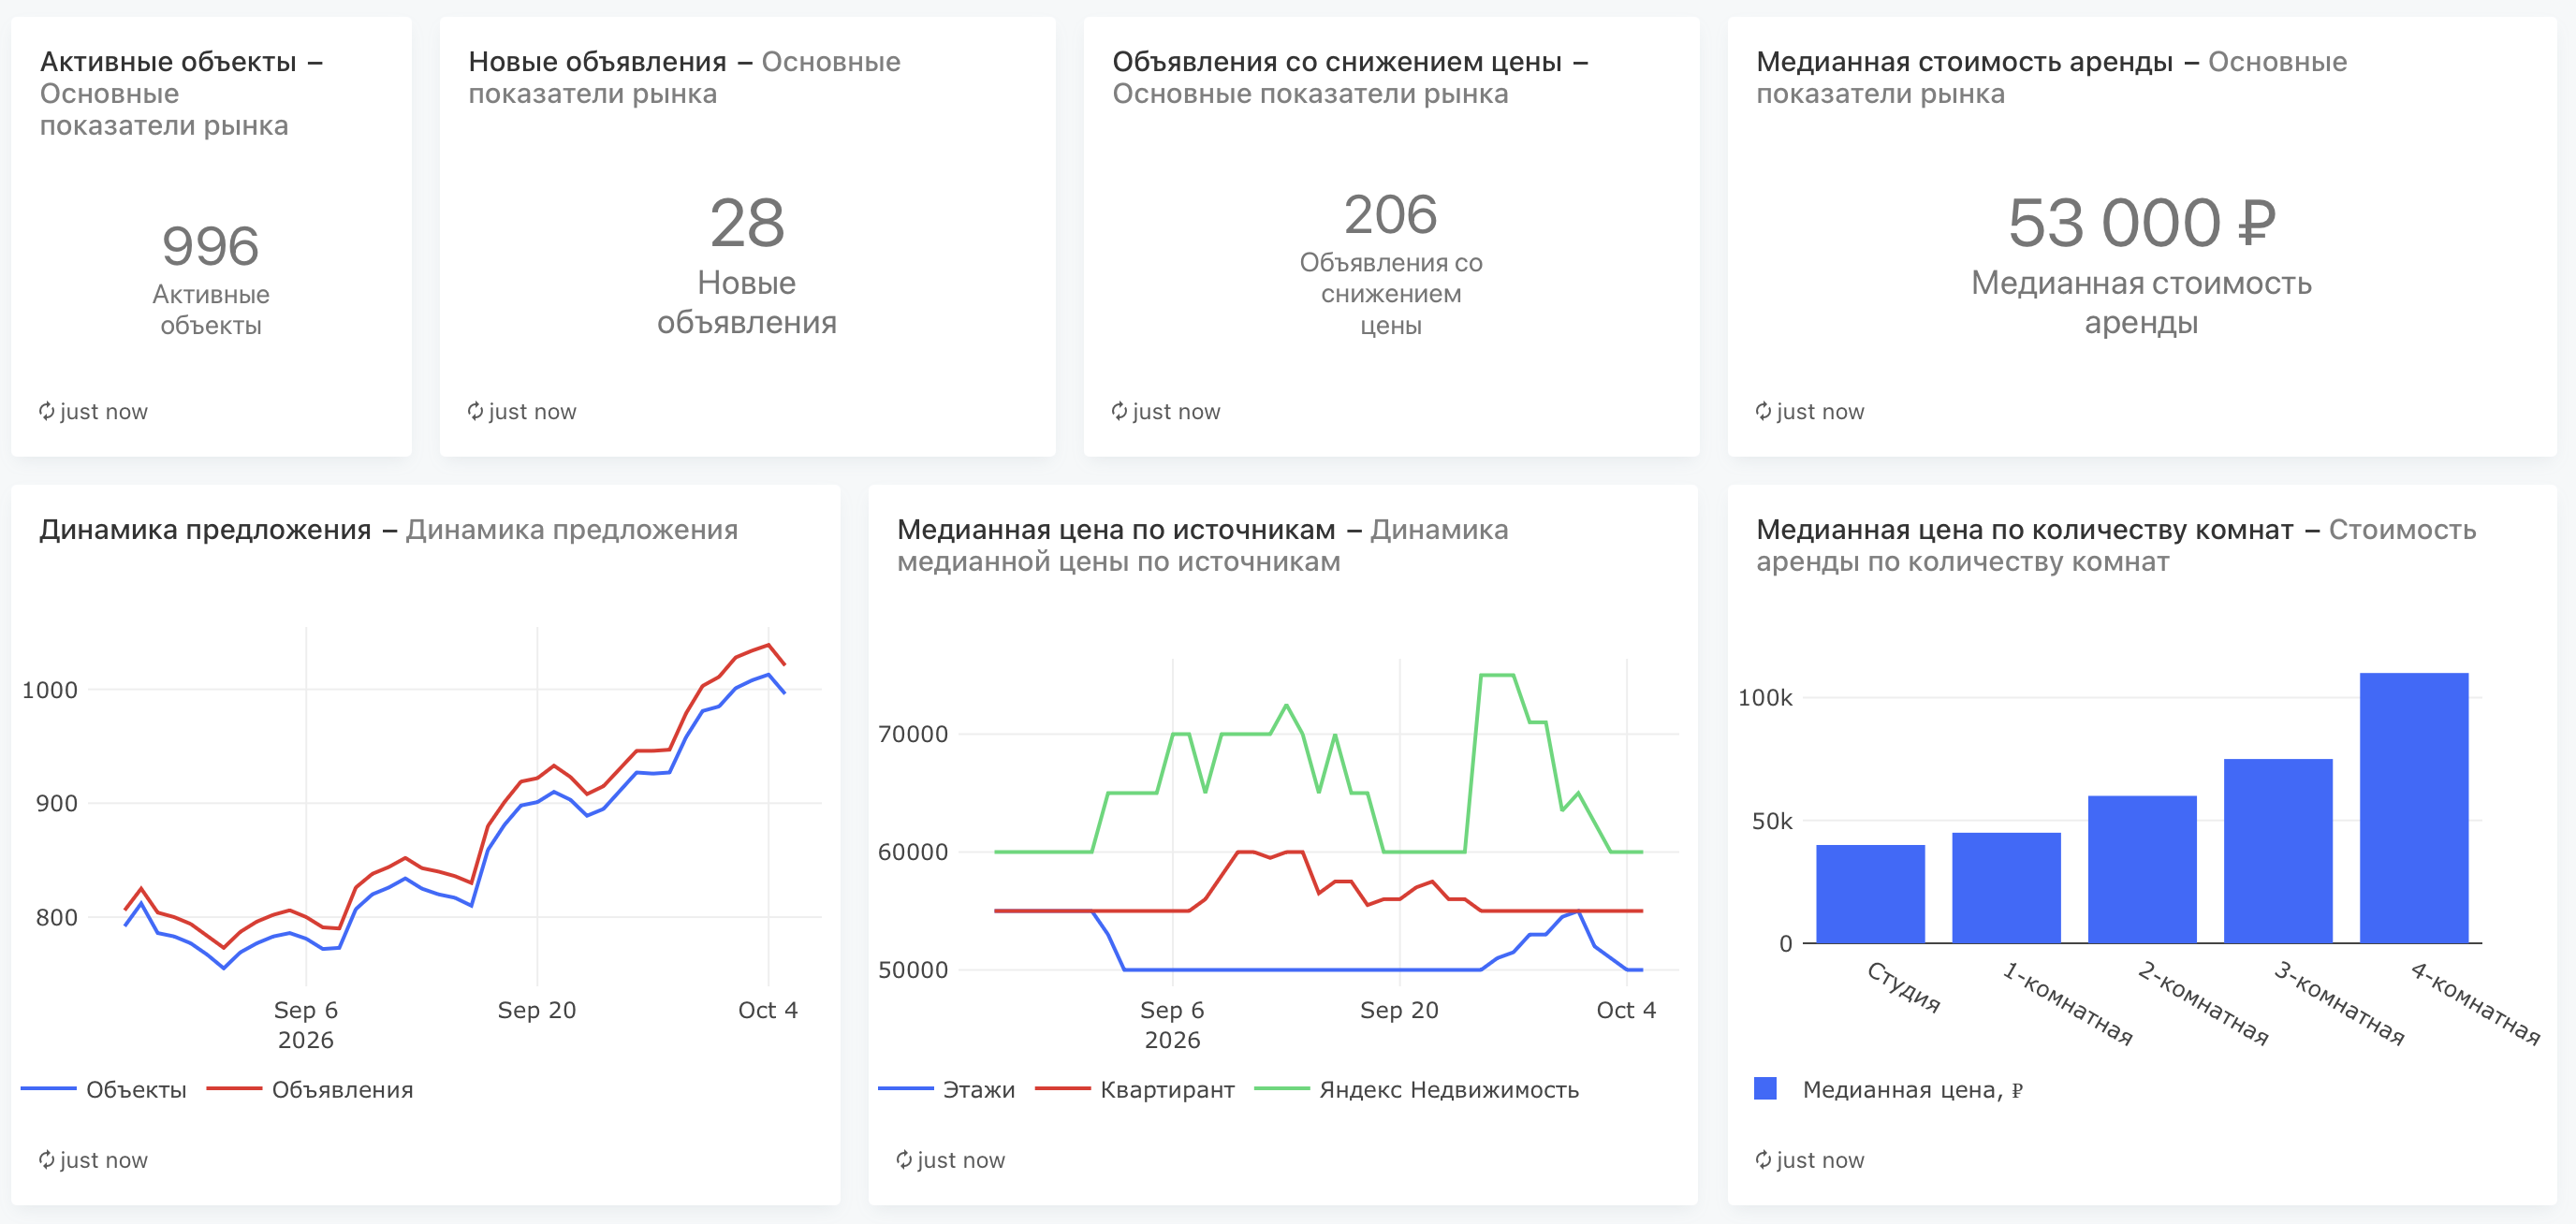

The dashboard page shown, as its layout file describes it:
{"tool":"powerbi","page":{"name":"Market Overview","canvas":[1920,1080],"ordinal":0},"visuals":[{"type":"lineChart","title":"Supply Dynamics","fields":{"Category":["marts market_daily.snapshot_date"],"Y":["Sum(marts market_daily.property_count)","Sum(marts market_daily.listing_count)"]},"box":[1000,31.7,886.7,476.7],"z":0},{"type":"lineChart","title":"Median Rent by Sorce, RUB","fields":{"Category":["marts source_daily.snapshot_date"],"Series":["marts source_daily.Source Name"],"Y":["Sum(marts source_daily.median_monthly_rent)"]},"box":[1000,540,886.7,476.7],"z":1000},{"type":"clusteredColumnChart","title":"Median Rent by Number of Rooms, RUB","fields":{"Category":["marts market_daily.Room Type"],"Y":["marts market_daily.Median Rent by Room"]},"box":[38.3,540,886.7,476.7],"z":2000},{"type":"cardVisual","fields":{"Data":["marts listing_lifecycle.Activve Properties"]},"box":[38.3,31.7,886.7,96.7],"z":3000},{"type":"cardVisual","fields":{"Data":["marts listing_lifecycle.New Listings"]},"box":[38.3,155,886.7,96.7],"z":4000},{"type":"cardVisual","fields":{"Data":["marts listing_lifecycle.Listings with Price Reductions"]},"box":[38.3,411.7,886.7,96.7],"z":5000},{"type":"cardVisual","fields":{"Data":["marts listing_lifecycle.Median Monthly Rent"]},"box":[38.3,283.3,886.7,96.7],"z":6000}]}

Visuals, with their boxes on the page's 1920x1080 design canvas (x1, y1, x2, y2). These are canvas units, not pixel positions in the 2576x1224 screenshot, which may show the page scaled, cropped or inside an application window:
"Supply Dynamics" lineChart: region(1000, 32, 1887, 508)
"Median Rent by Sorce, RUB" lineChart: region(1000, 540, 1887, 1017)
"Median Rent by Number of Rooms, RUB" clusteredColumnChart: region(38, 540, 925, 1017)
cardVisual - marts listing_lifecycle.Activve Properties: region(38, 32, 925, 128)
cardVisual - marts listing_lifecycle.New Listings: region(38, 155, 925, 252)
cardVisual - marts listing_lifecycle.Listings with Price Reductions: region(38, 412, 925, 508)
cardVisual - marts listing_lifecycle.Median Monthly Rent: region(38, 283, 925, 380)
